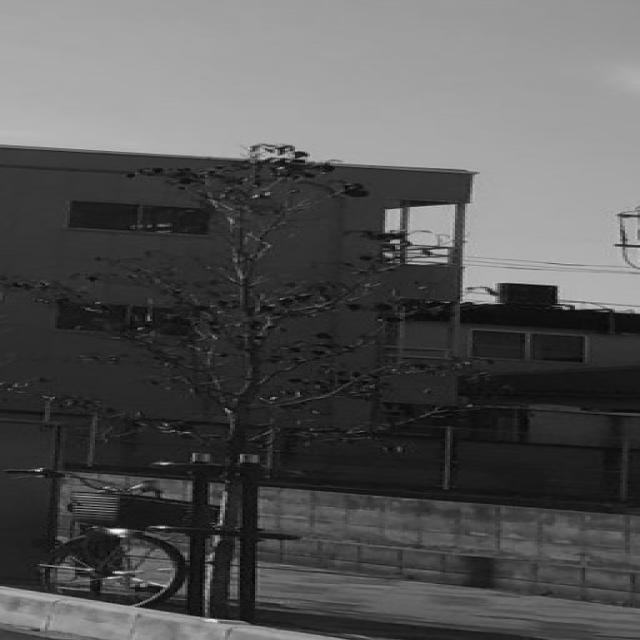dogwood: (0, 142, 518, 619)
